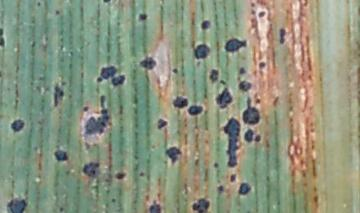tarspot: (84, 94, 111, 138), (222, 116, 242, 168), (241, 95, 261, 126), (214, 86, 233, 111), (223, 37, 248, 53), (82, 160, 101, 179), (164, 145, 182, 165), (6, 197, 28, 213), (192, 43, 211, 61), (51, 83, 65, 107), (98, 64, 117, 81), (52, 144, 69, 162), (139, 55, 157, 71), (191, 197, 209, 213), (10, 118, 25, 134), (236, 79, 252, 94), (146, 198, 161, 213), (172, 94, 187, 109), (111, 74, 127, 87), (187, 104, 204, 116), (242, 128, 254, 144), (209, 68, 220, 83), (238, 182, 250, 195), (156, 117, 167, 130), (278, 27, 286, 44), (200, 19, 211, 30), (182, 181, 190, 196), (1, 27, 6, 49), (137, 13, 148, 23), (115, 171, 126, 181), (215, 184, 225, 194), (230, 172, 237, 185), (257, 61, 267, 70), (254, 96, 263, 106), (257, 10, 266, 19), (219, 76, 228, 85), (253, 134, 263, 142), (237, 66, 246, 74), (82, 105, 90, 113), (193, 158, 200, 167), (95, 76, 103, 83), (212, 162, 220, 169), (138, 171, 145, 179), (171, 67, 178, 74), (54, 9, 60, 17), (110, 197, 117, 203), (35, 1, 41, 7), (101, 1, 112, 4), (58, 206, 63, 212)
